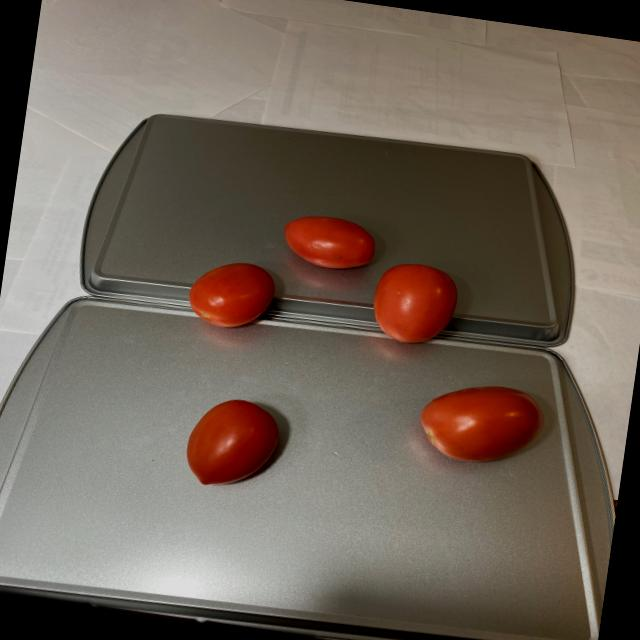tomato: (182, 198, 470, 360), (417, 374, 550, 473), (185, 388, 284, 499)
